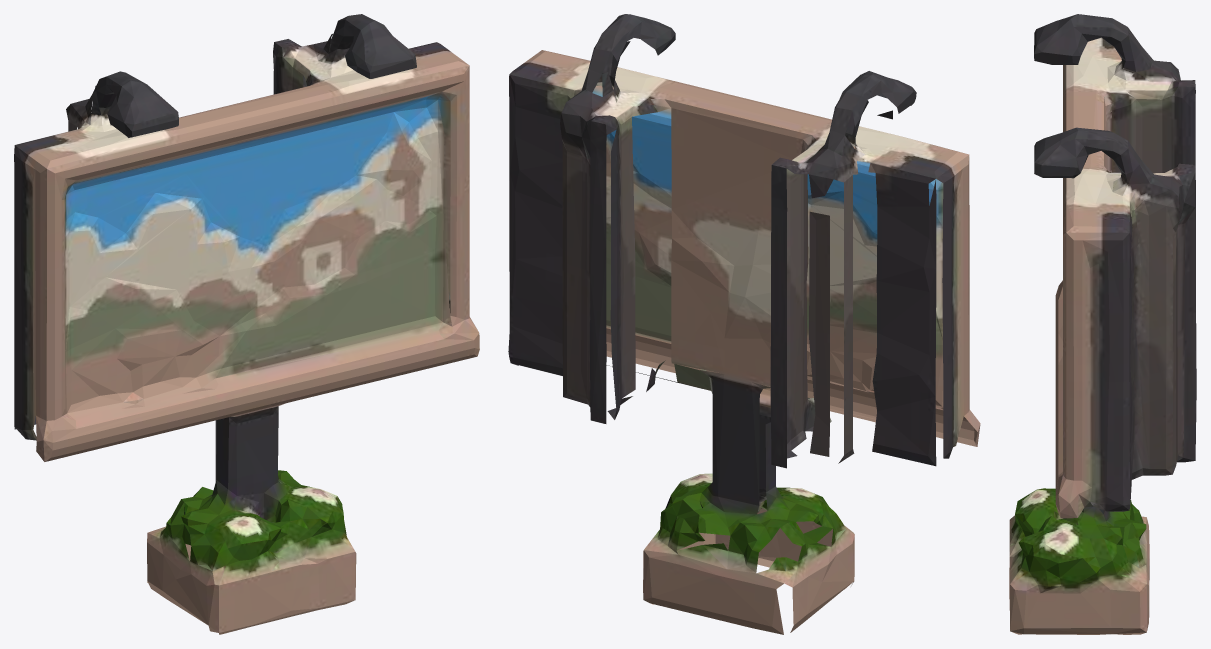
Rendered from M-10_07_billboard.glb.
3 renders of one model, left to right at view 1: azimuth 30°, elevation 25°; view 2: azimuth 150°, elevation 25°; view 3: azimuth 270°, elevation 25°, orthographic. The views are drawn at different scales.
Parts seen in each view (by area): view 1: loA; view 2: loA; view 3: loA.
Part boxes in pixels (box(x1,y1,x2,y2)): loA: box(14, 14, 479, 634); loA: box(508, 14, 980, 634); loA: box(1009, 14, 1196, 634).
Bounding box in the file's own units: 5.18 × 6.14 × 1.96.
Materials: 2 (2 with a texture image).
